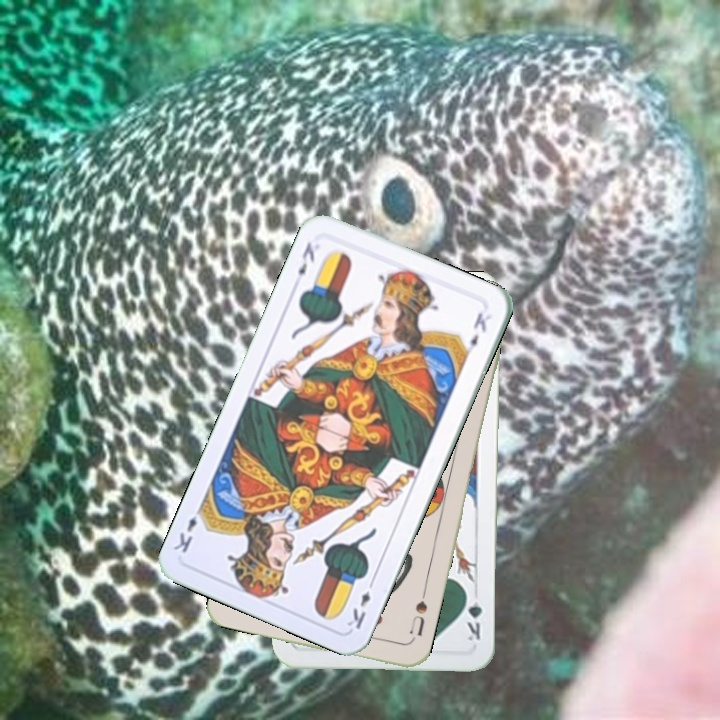EK: (343, 575, 377, 632), (294, 238, 317, 278)
GK: (462, 586, 485, 643)
SU: (406, 588, 430, 639)
